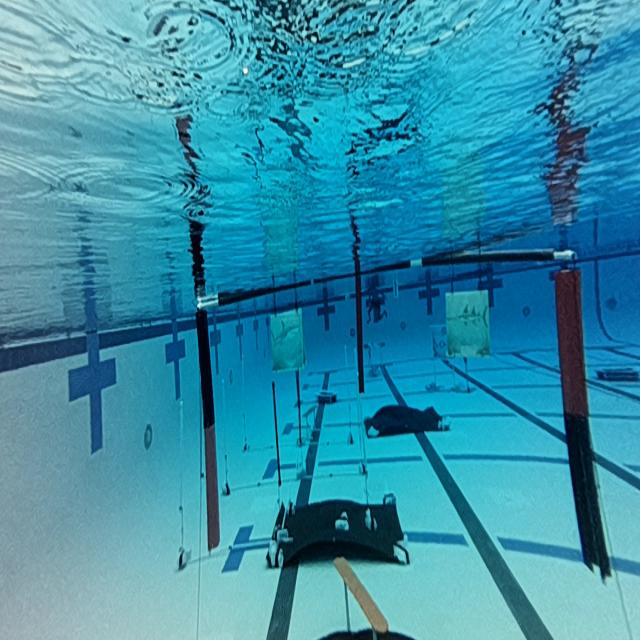pointed_nose: (442, 288, 490, 355)
round_nose: (269, 311, 305, 368)
